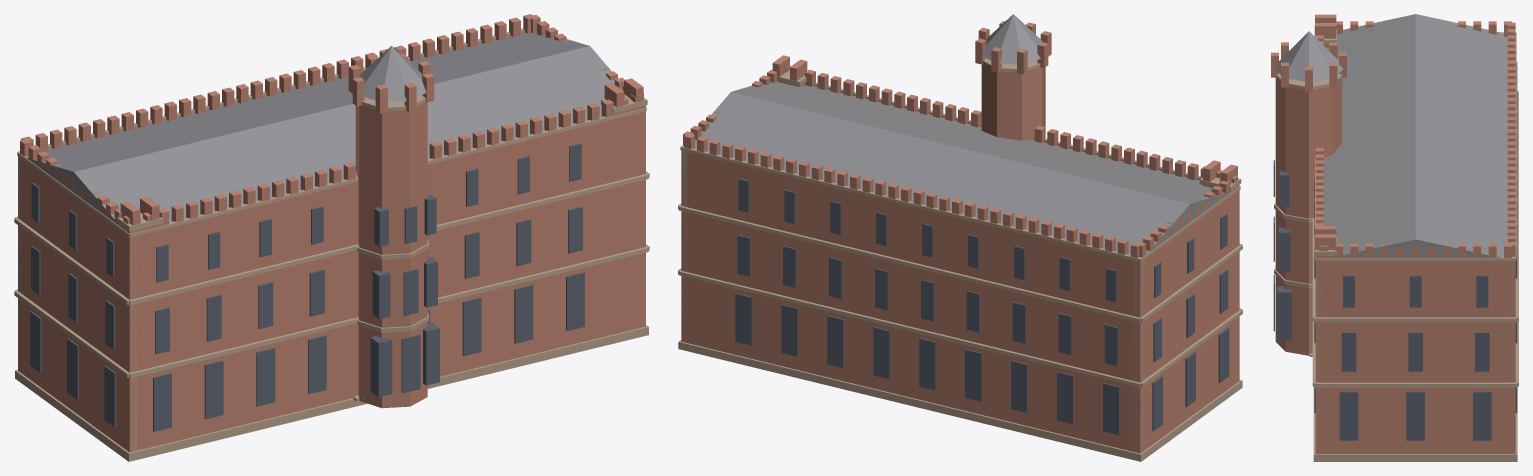
The model's file is cp_arsenal.glb.
3 views of the same model, side by side, from view 1: azimuth 30°, elevation 25°; view 2: azimuth 150°, elevation 25°; view 3: azimuth 270°, elevation 25° (orthographic). The views are drawn at different scales.
Visible parts, largest first — view 1: Arsenal; view 2: Arsenal; view 3: Arsenal.
Part boxes in pixels (left/top/right/bottom): Arsenal: left=14, top=14, right=649, bottom=461; Arsenal: left=678, top=14, right=1242, bottom=461; Arsenal: left=1271, top=14, right=1518, bottom=461.
Bounding box in the file's own units: 40.46 × 26.27 × 18.58.
